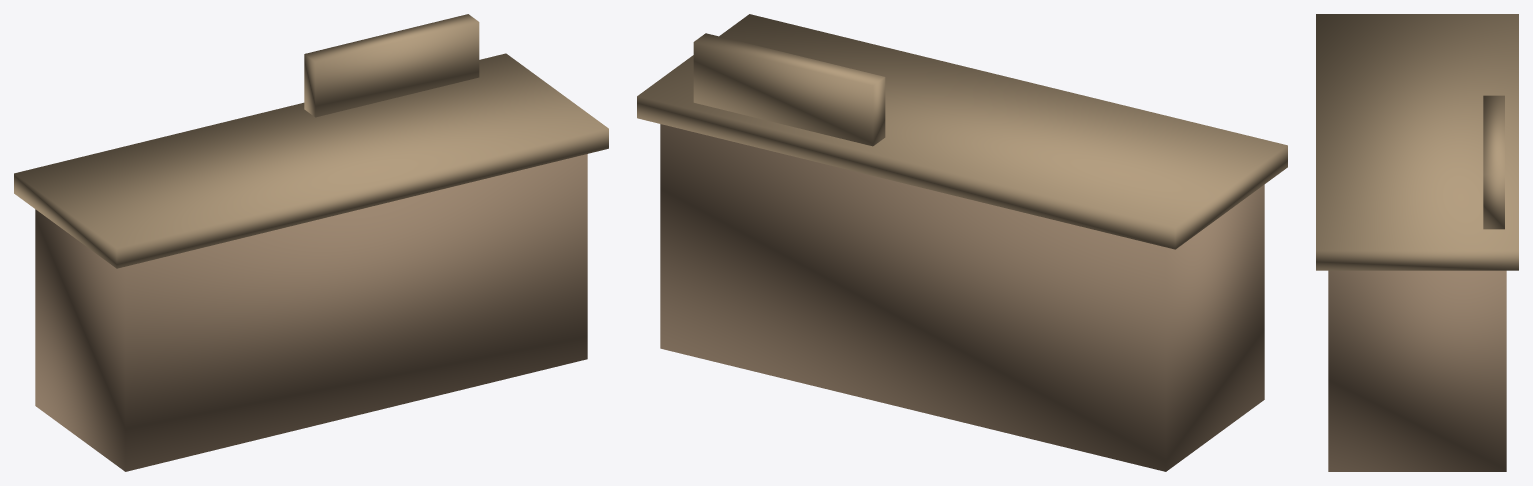
Rendered from clerk_counter__wide.glb.
3 views of the same model, side by side, from view 1: azimuth 30°, elevation 25°; view 2: azimuth 150°, elevation 25°; view 3: azimuth 270°, elevation 25° (orthographic). The views are drawn at different scales.
Visible parts, largest first — view 1: world; view 2: world; view 3: world.
Part boxes in pixels (<box>): world: <box>14,14,608,471</box>; world: <box>637,14,1287,471</box>; world: <box>1316,14,1518,471</box>.
Size of the model in its own units: 2.05 by 1.14 by 0.74.
